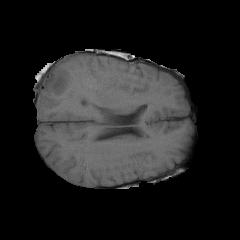glioma: (40, 65, 92, 109)
